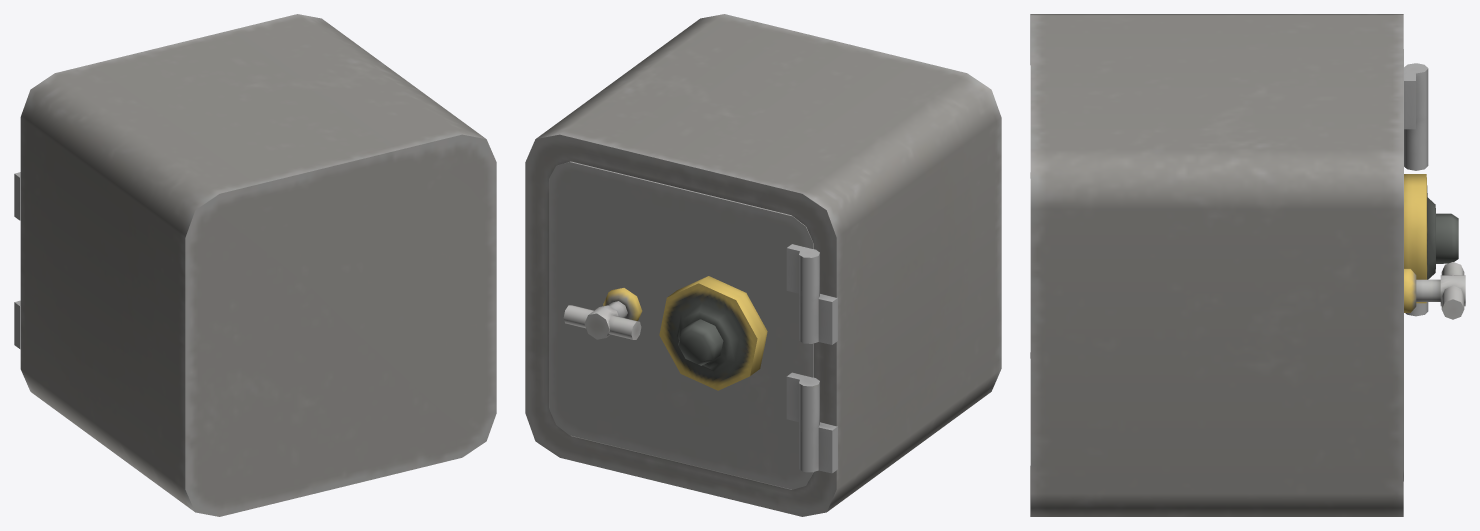
The model's file is Prfb_Safe__5.fbx.
3 renders of one model, left to right at view 1: azimuth 30°, elevation 25°; view 2: azimuth 150°, elevation 25°; view 3: azimuth 270°, elevation 25°, orthographic. The views are drawn at different scales.
Visible parts, largest first — view 1: Mat_Safe_02; view 2: Mat_Safe_02; view 3: Mat_Safe_02.
Part boxes in pixels (<box>): Mat_Safe_02: <box>14,14,496,516</box>; Mat_Safe_02: <box>525,14,1001,516</box>; Mat_Safe_02: <box>1030,14,1465,516</box>.
Size of the model in its own units: 0.5984 by 0.592 by 0.6381.
1 material, 1 textured.
